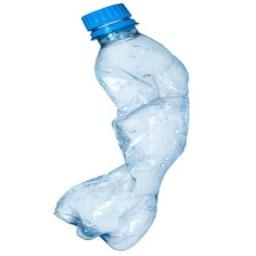Plastic: (56, 2, 192, 255)
